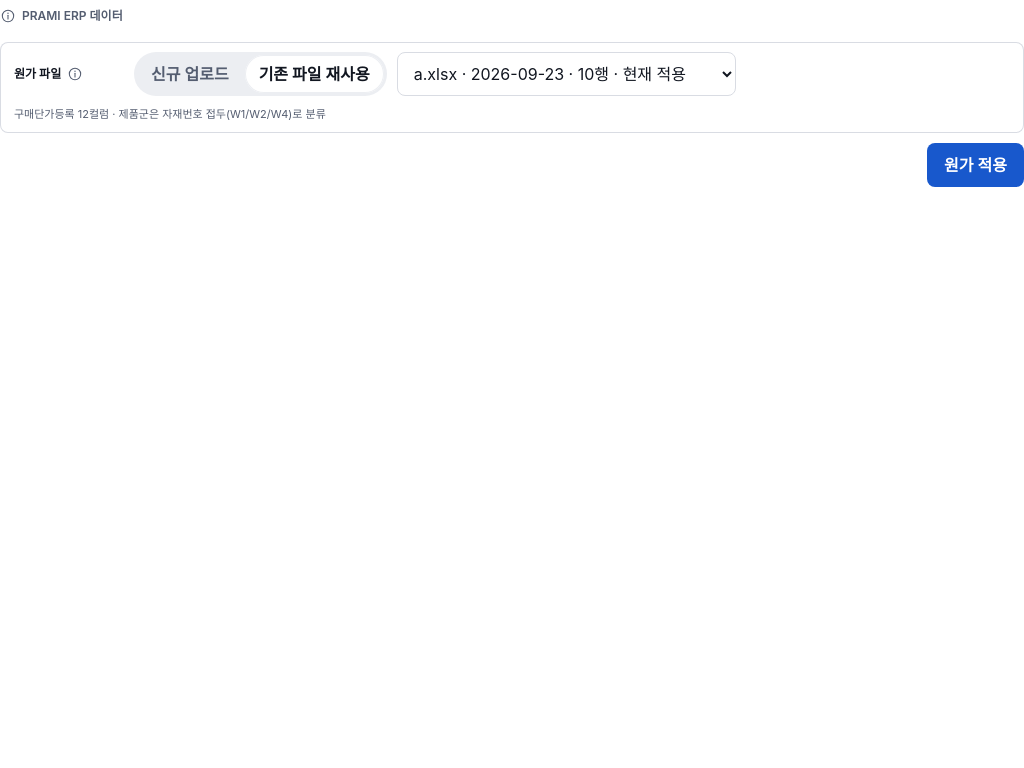
CostImportPanel — ERP 안내 › 기존 파일 재사용 모드에서도 원가 칸 ⓘ 가 보인다
The width and height of the screenshot is (1024, 768).
expect the dropdown named "원가 파일 기존 배치" is shown: met, box [397,52,736,96]
Click the button named "원가 파일 ERP 메뉴 경로". click: (75, 74)
box: [63,62,87,86]
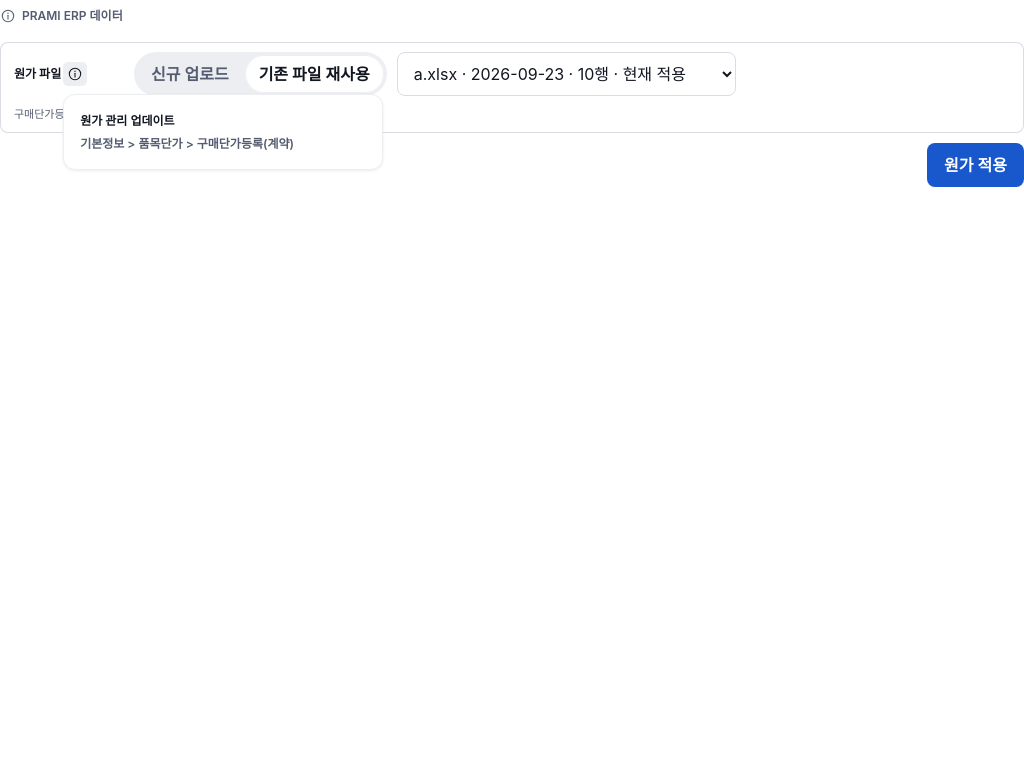
Press Escape
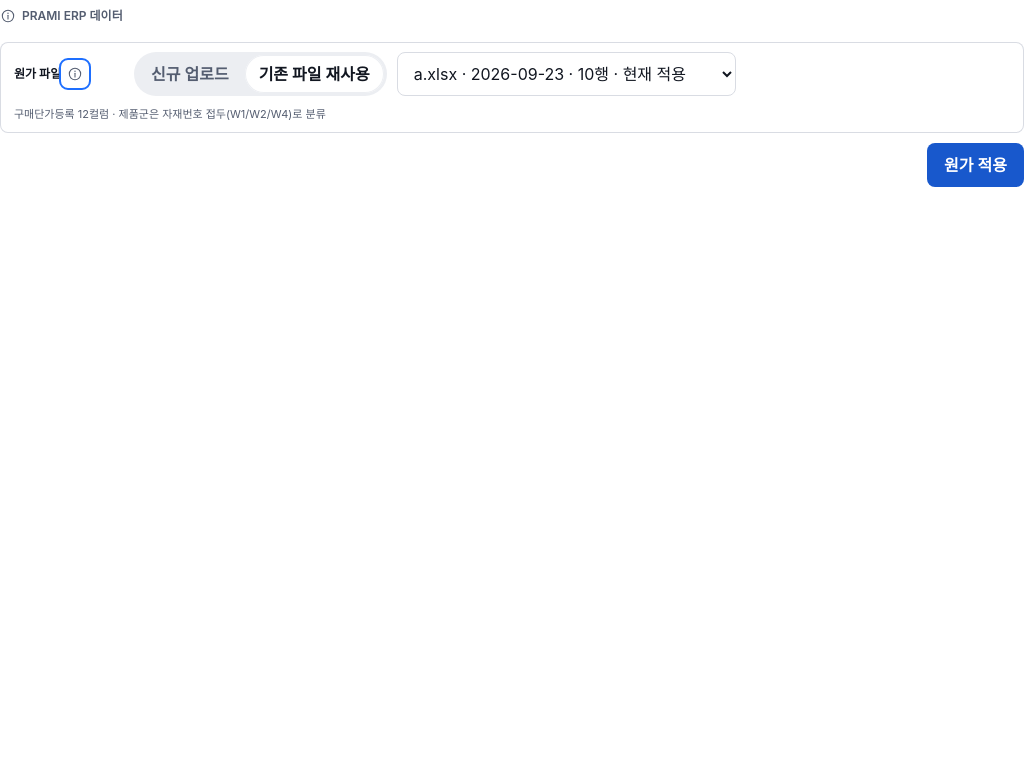
expect the dialog is gone: met
